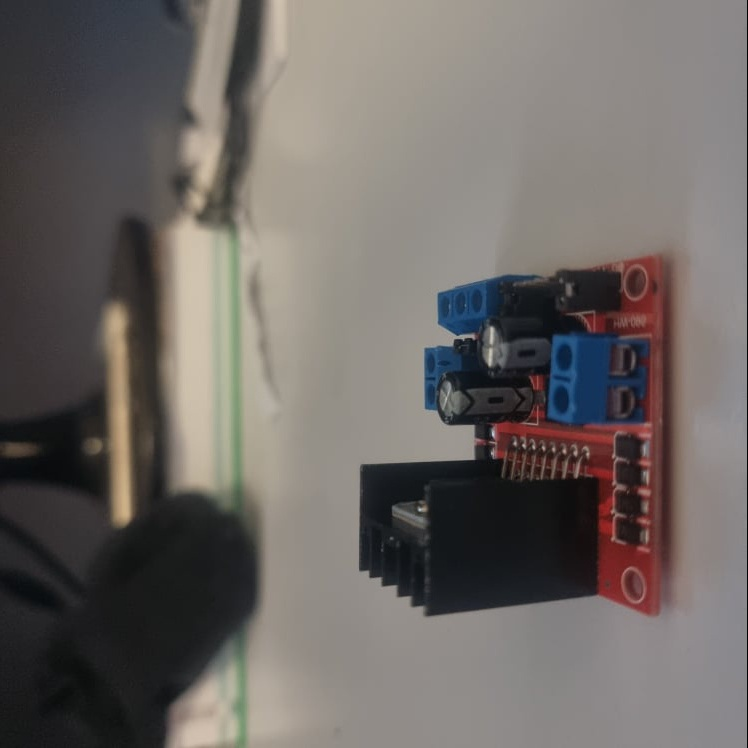MOTOR: (357, 249, 668, 623)
